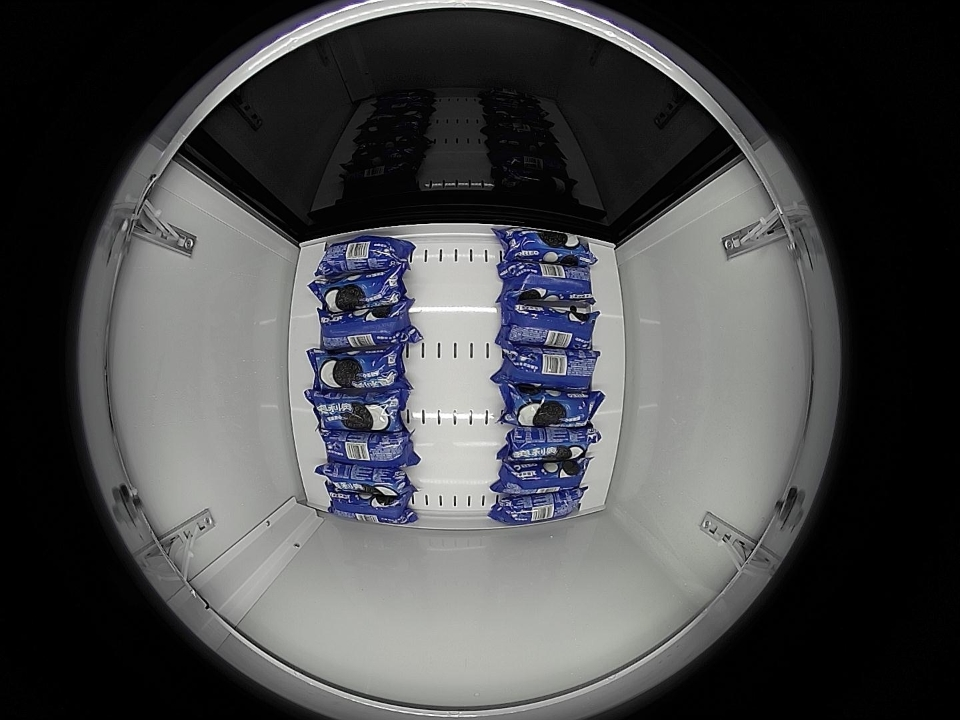aoliao: (499, 305, 594, 352), (505, 384, 601, 428), (305, 348, 400, 392), (315, 236, 412, 278), (501, 347, 593, 387), (308, 392, 404, 430), (506, 425, 600, 462), (501, 228, 594, 265), (504, 265, 591, 302), (312, 315, 405, 349), (321, 430, 412, 463), (498, 489, 582, 524), (317, 280, 404, 313), (316, 463, 408, 494), (499, 460, 586, 490), (331, 491, 408, 524)
